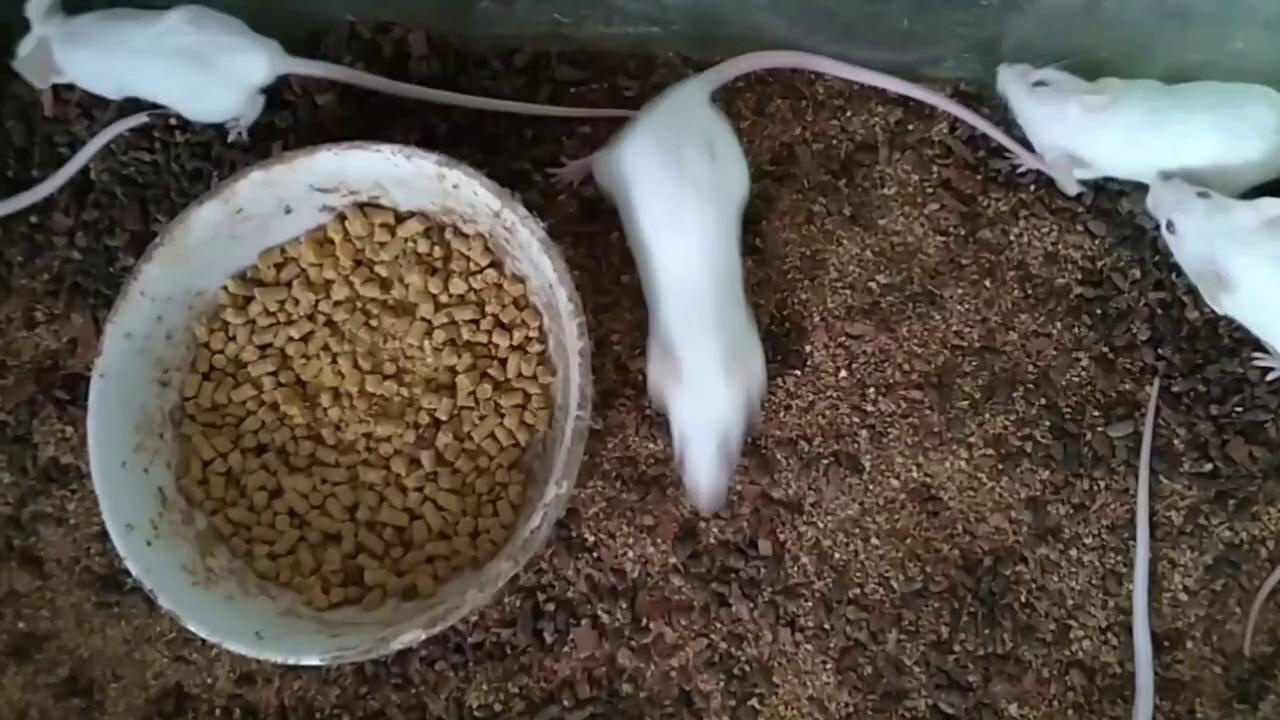mouse: (545, 49, 1018, 521), (11, 0, 637, 141), (998, 59, 1280, 198), (1147, 180, 1280, 380)
